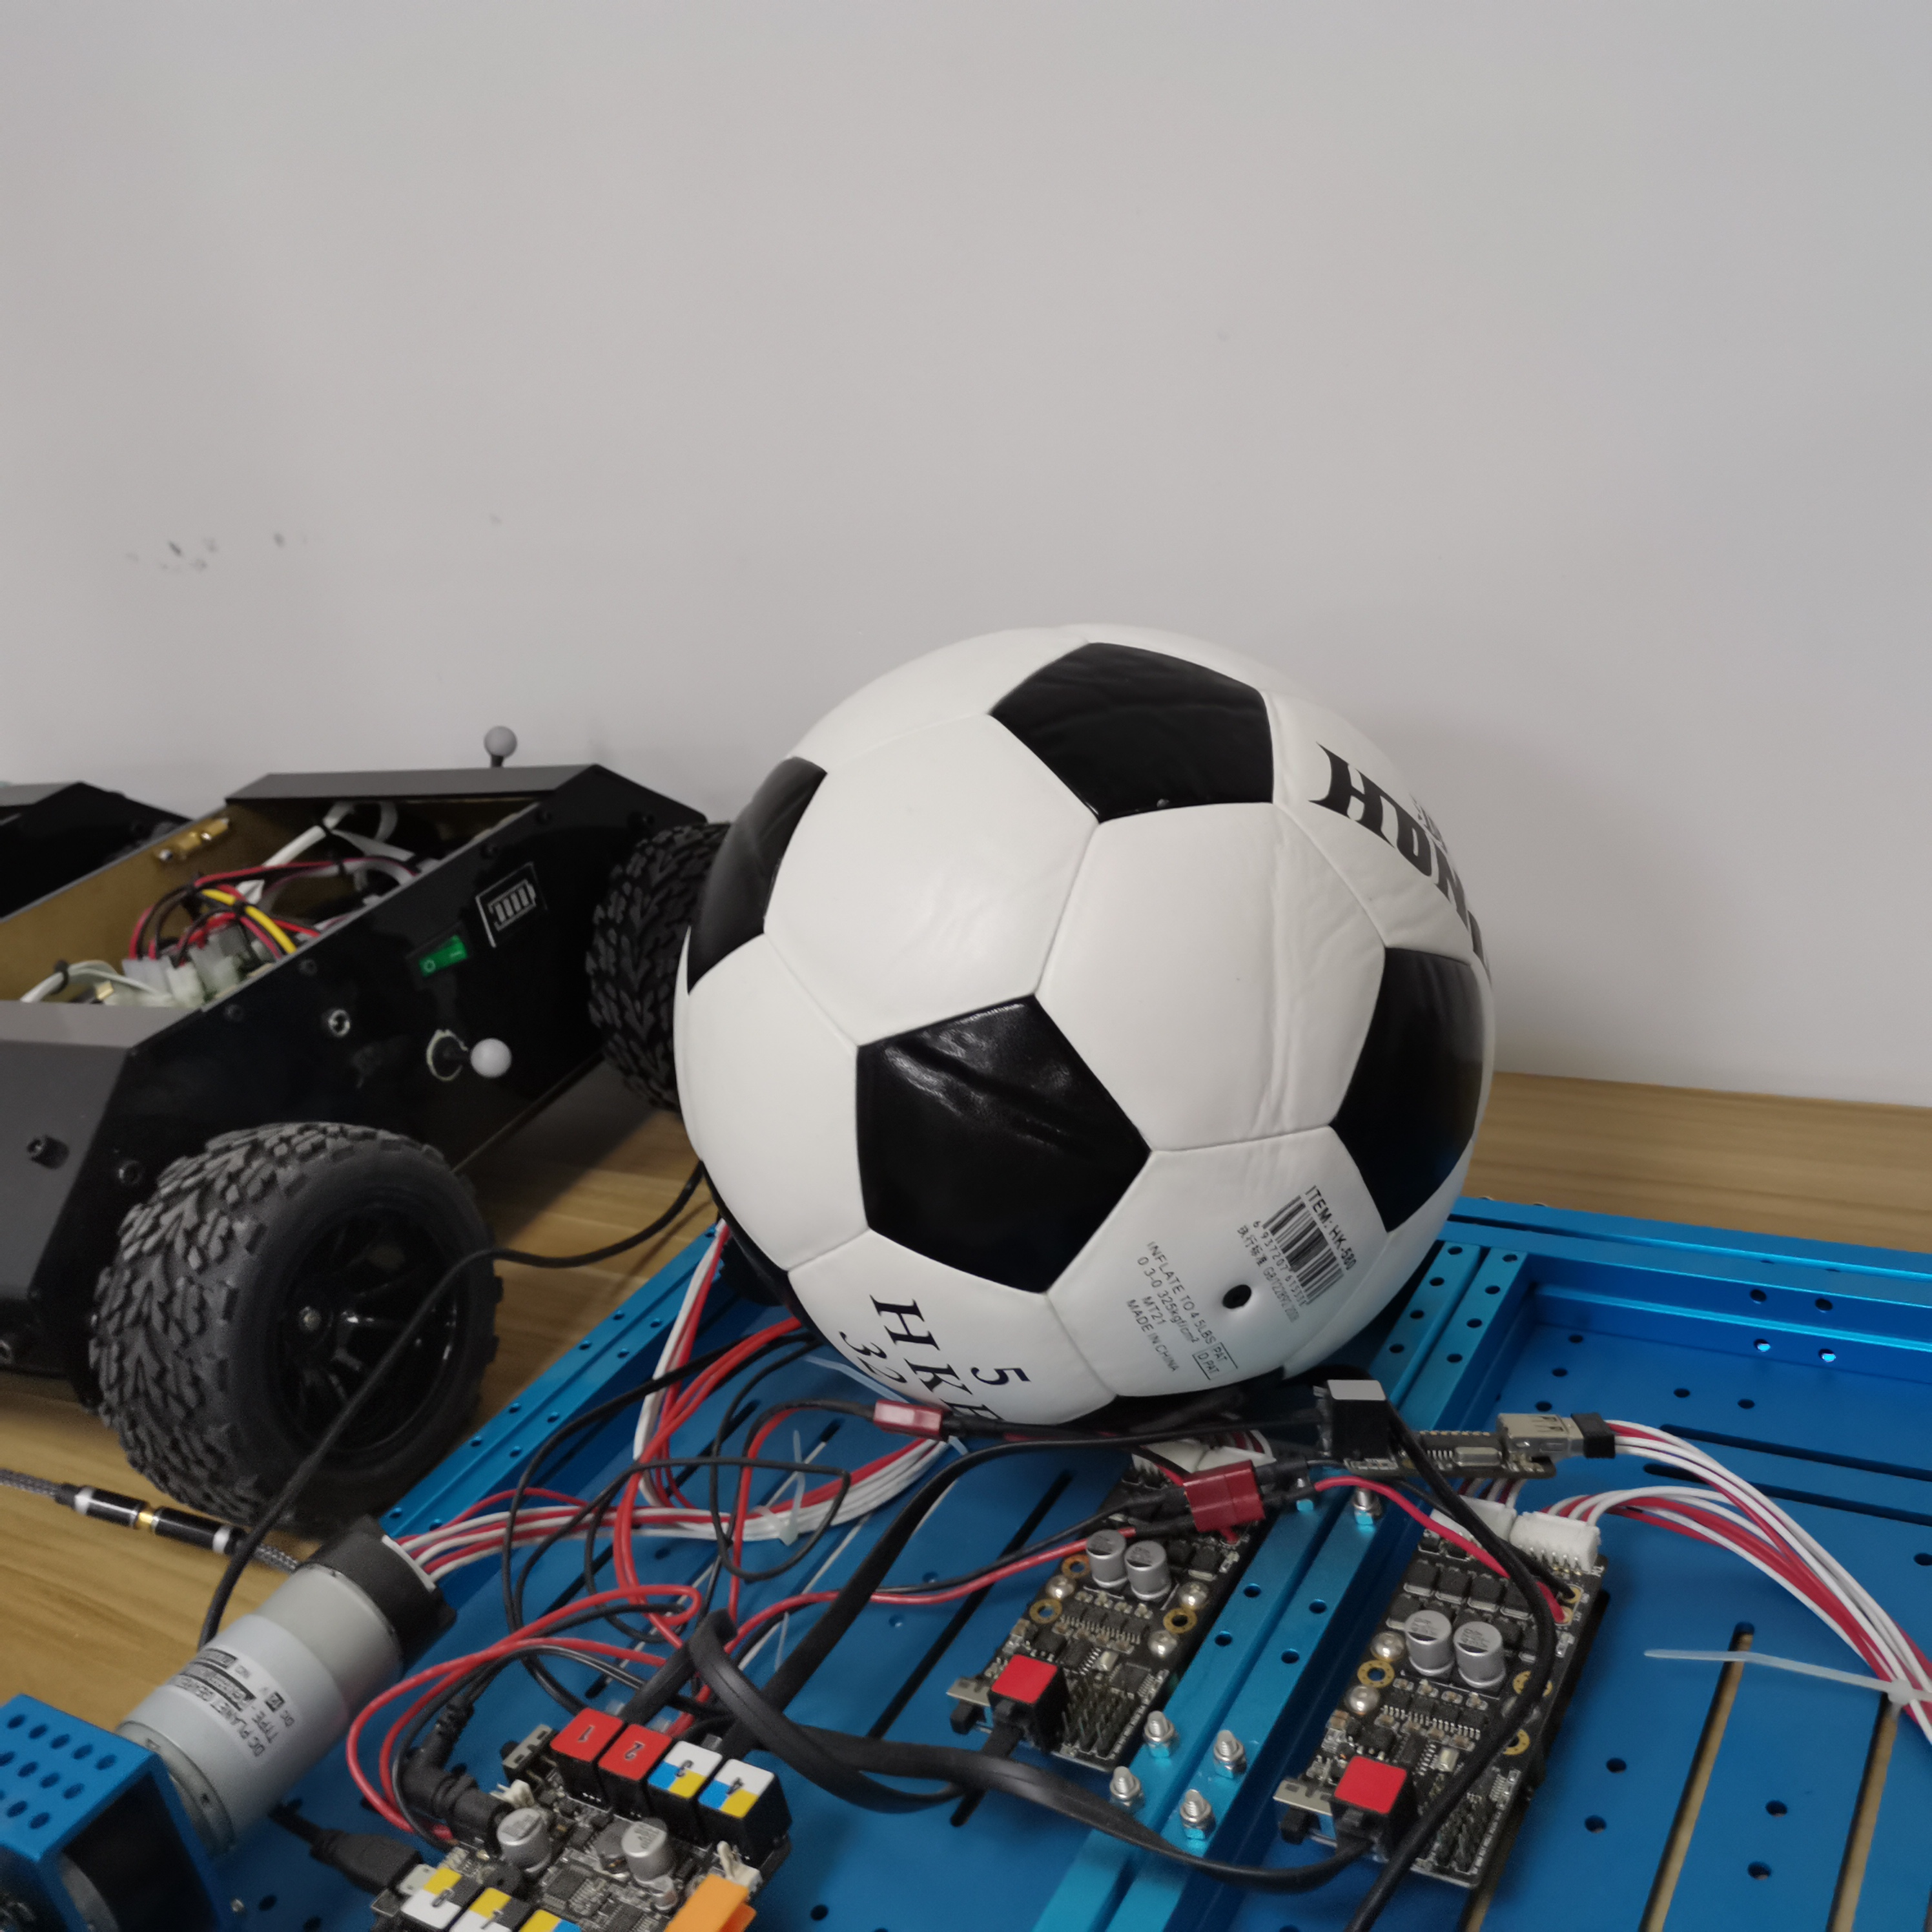football: (672, 621, 1506, 1424)
